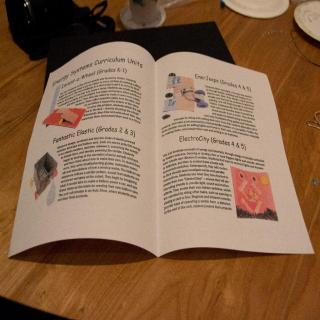book: (13, 43, 318, 267)
